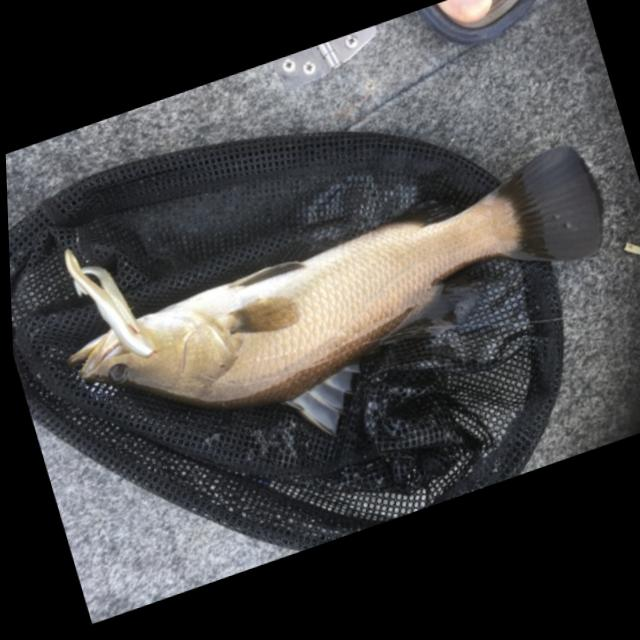Seabass: (49, 133, 640, 521)
